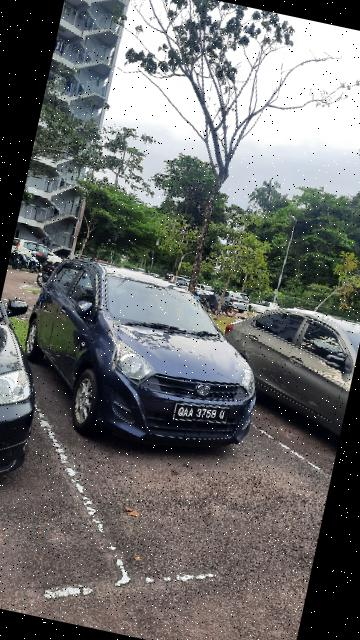License_Plate: (172, 398, 232, 430)
car: (11, 248, 280, 470), (208, 291, 360, 436)
